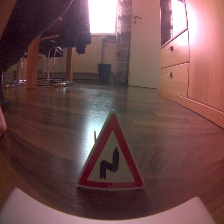vorsicht: (76, 109, 148, 192)
